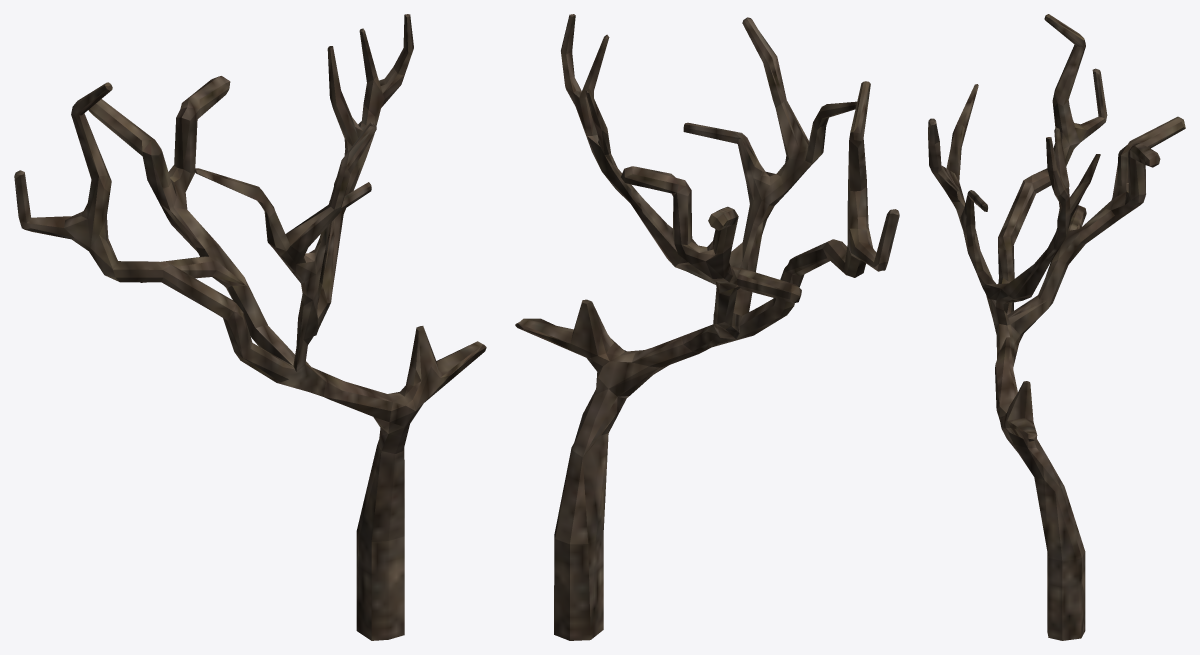
Rendered from Tree4.fbx.
3 views of the same model, side by side, from view 1: azimuth 30°, elevation 25°; view 2: azimuth 150°, elevation 25°; view 3: azimuth 270°, elevation 25° (orthographic). The views are drawn at different scales.
Visible parts, largest first — view 1: tree_04; view 2: tree_04; view 3: tree_04.
Part boxes in pixels (<box>): tree_04: <box>14,14,486,640</box>; tree_04: <box>515,14,899,640</box>; tree_04: <box>928,14,1185,640</box>.
Bounding box in the file's own units: 4.17 × 5.78 × 2.67.
